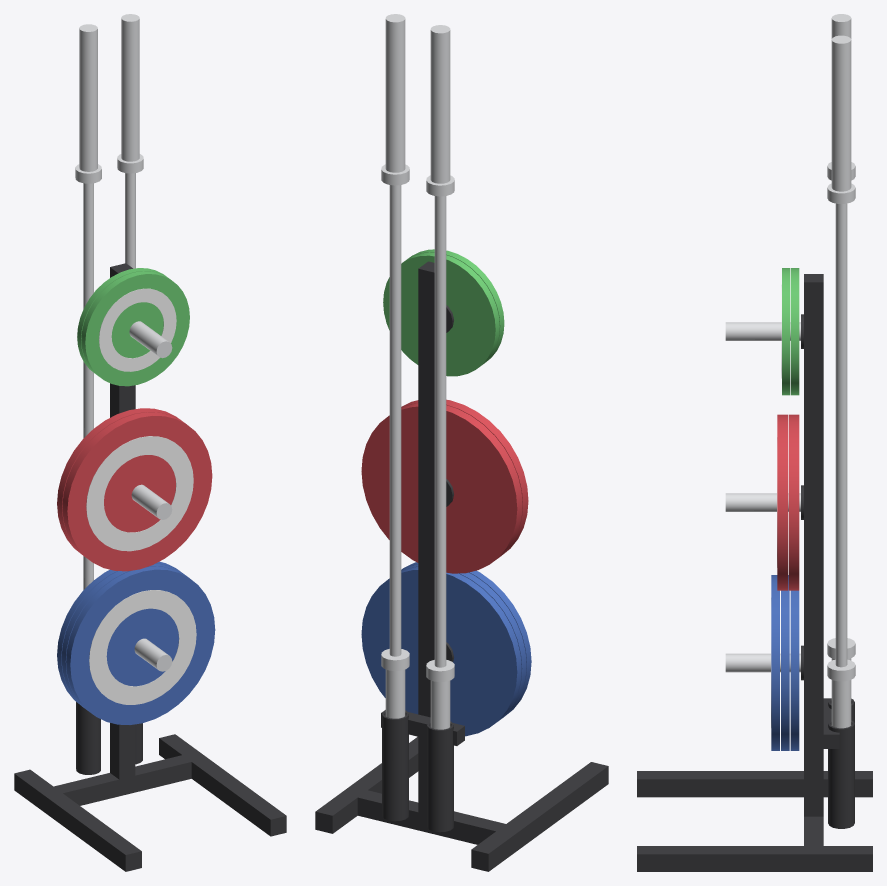
The model's file is arbol_maek.glb.
The picture shows the model from 3 angles, left to right: view 1: azimuth 30°, elevation 25°; view 2: azimuth 150°, elevation 25°; view 3: azimuth 270°, elevation 25°; orthographic projection. The views are drawn at different scales.
Visible parts, largest first — view 1: arbol_maek; view 2: arbol_maek; view 3: arbol_maek.
Boxes of the visible parts, left/top/right/bottom form: arbol_maek: left=14, top=14, right=286, bottom=871; arbol_maek: left=315, top=14, right=608, bottom=871; arbol_maek: left=637, top=14, right=872, bottom=871.
Bounding box in the file's own units: 0.5 × 2.25 × 0.6.
